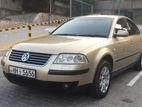car: (2, 14, 142, 99)
